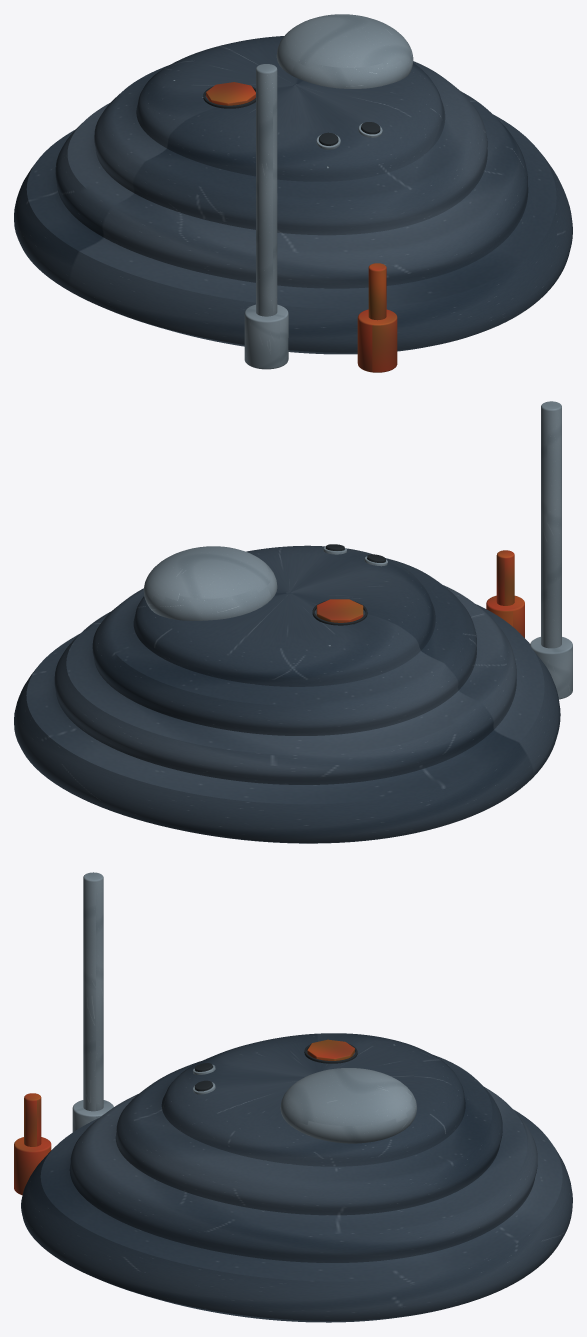
3 views of the same model, one above another, from view 1: azimuth 30°, elevation 25°; view 2: azimuth 150°, elevation 25°; view 3: azimuth 270°, elevation 25° (orthographic). The views are drawn at different scales.
Parts seen in each view (by area): view 1: House of the Axe layered slate civic shell, House of the Axe low pale roof lobe, House of the Axe silver upright, House of the Axe silver base sleeve, House of the Axe copper base sleeve, House of the Axe copper upright, House of the Axe copper roof inset; view 2: House of the Axe layered slate civic shell, House of the Axe low pale roof lobe, House of the Axe silver upright, House of the Axe silver base sleeve, House of the Axe copper upright, House of the Axe copper roof inset, House of the Axe copper base sleeve; view 3: House of the Axe layered slate civic shell, House of the Axe low pale roof lobe, House of the Axe silver upright, House of the Axe copper base sleeve, House of the Axe copper upright, House of the Axe copper roof inset, House of the Axe silver base sleeve.
Boxes of the visible parts, x1,y1,x2,y2 form: House of the Axe layered slate civic shell: (14,36,572,354); House of the Axe low pale roof lobe: (276,14,413,88); House of the Axe silver upright: (256,64,277,316); House of the Axe silver base sleeve: (244,304,288,369); House of the Axe copper base sleeve: (357,309,397,372); House of the Axe copper upright: (368,263,386,320); House of the Axe copper roof inset: (206,82,255,105); House of the Axe layered slate civic shell: (14,545,560,843); House of the Axe low pale roof lobe: (143,546,277,620); House of the Axe silver upright: (541,401,561,648); House of the Axe silver base sleeve: (530,637,572,699); House of the Axe copper upright: (496,550,514,605); House of the Axe copper roof inset: (316,599,363,622); House of the Axe copper base sleeve: (486,595,524,637); House of the Axe layered slate civic shell: (21,1033,572,1322); House of the Axe low pale roof lobe: (280,1068,416,1143); House of the Axe silver upright: (83,872,103,1111); House of the Axe copper base sleeve: (14,1137,51,1195); House of the Axe copper upright: (24,1093,41,1146); House of the Axe copper roof inset: (307,1039,354,1060); House of the Axe silver base sleeve: (72,1100,113,1132).
Size of the model in its own units: 2.07 by 1.2 by 2.21.
Materials: 4 (3 with a texture image).
